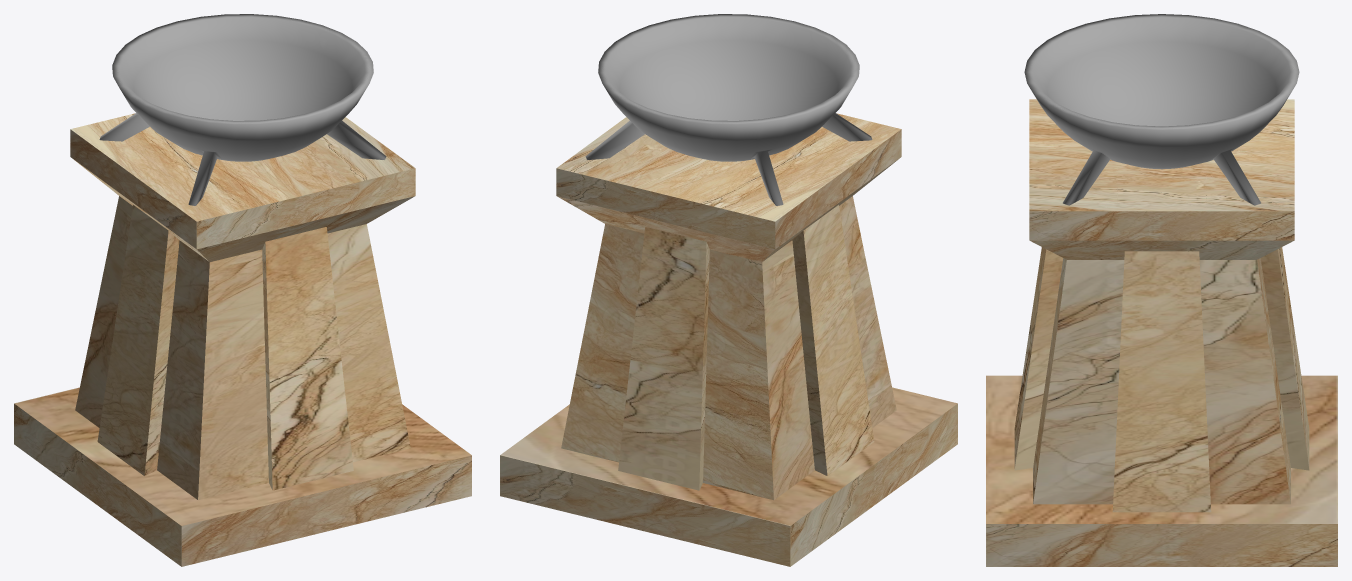
File: brazier.fbx
3 renders of one model, left to right at view 1: azimuth 30°, elevation 25°; view 2: azimuth 150°, elevation 25°; view 3: azimuth 270°, elevation 25°, orthographic. The views are drawn at different scales.
Parts seen in each view (by area): view 1: Cube, Sphere; view 2: Cube, Sphere; view 3: Cube, Sphere.
Boxes of the visible parts, bbox=[...] form: Cube: bbox=[14, 113, 471, 566]; Sphere: bbox=[99, 14, 386, 205]; Cube: bbox=[500, 113, 957, 566]; Sphere: bbox=[585, 14, 872, 205]; Cube: bbox=[986, 99, 1337, 566]; Sphere: bbox=[1024, 14, 1299, 205].
Bounding box in the file's own units: 200 × 264 × 200.
